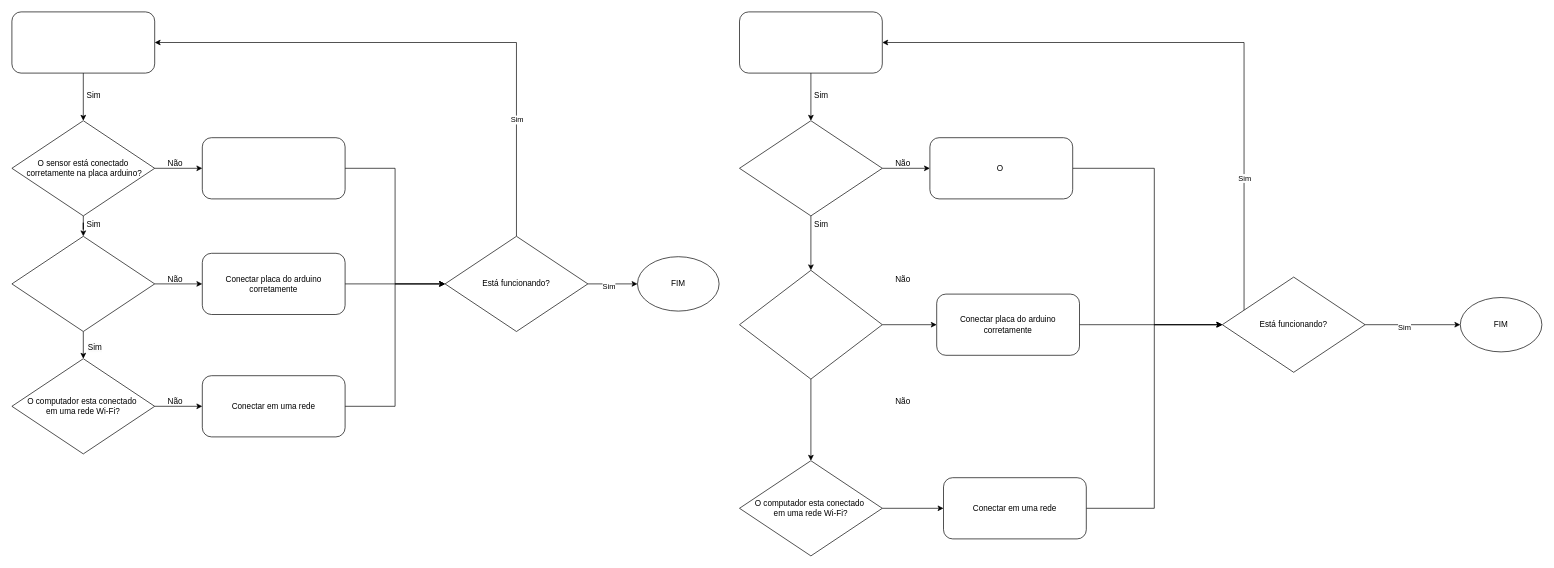
Image size: 1554x568. Some labels were removed from this diagram. Here are the shapes that lost their labels. From the top down, the box of each, then its label:
(11, 11, 155, 73): Sensor não funciona
(739, 11, 882, 73): Site não funciona
(202, 137, 345, 199): Conectar sensor corretamente
(739, 120, 882, 216): A maquina tem conexão com a internet?
(11, 236, 155, 332): A placa arduino não esta conectada corretamente no computador
(739, 270, 882, 379): Verificou se o Arduino está conectado a internet
